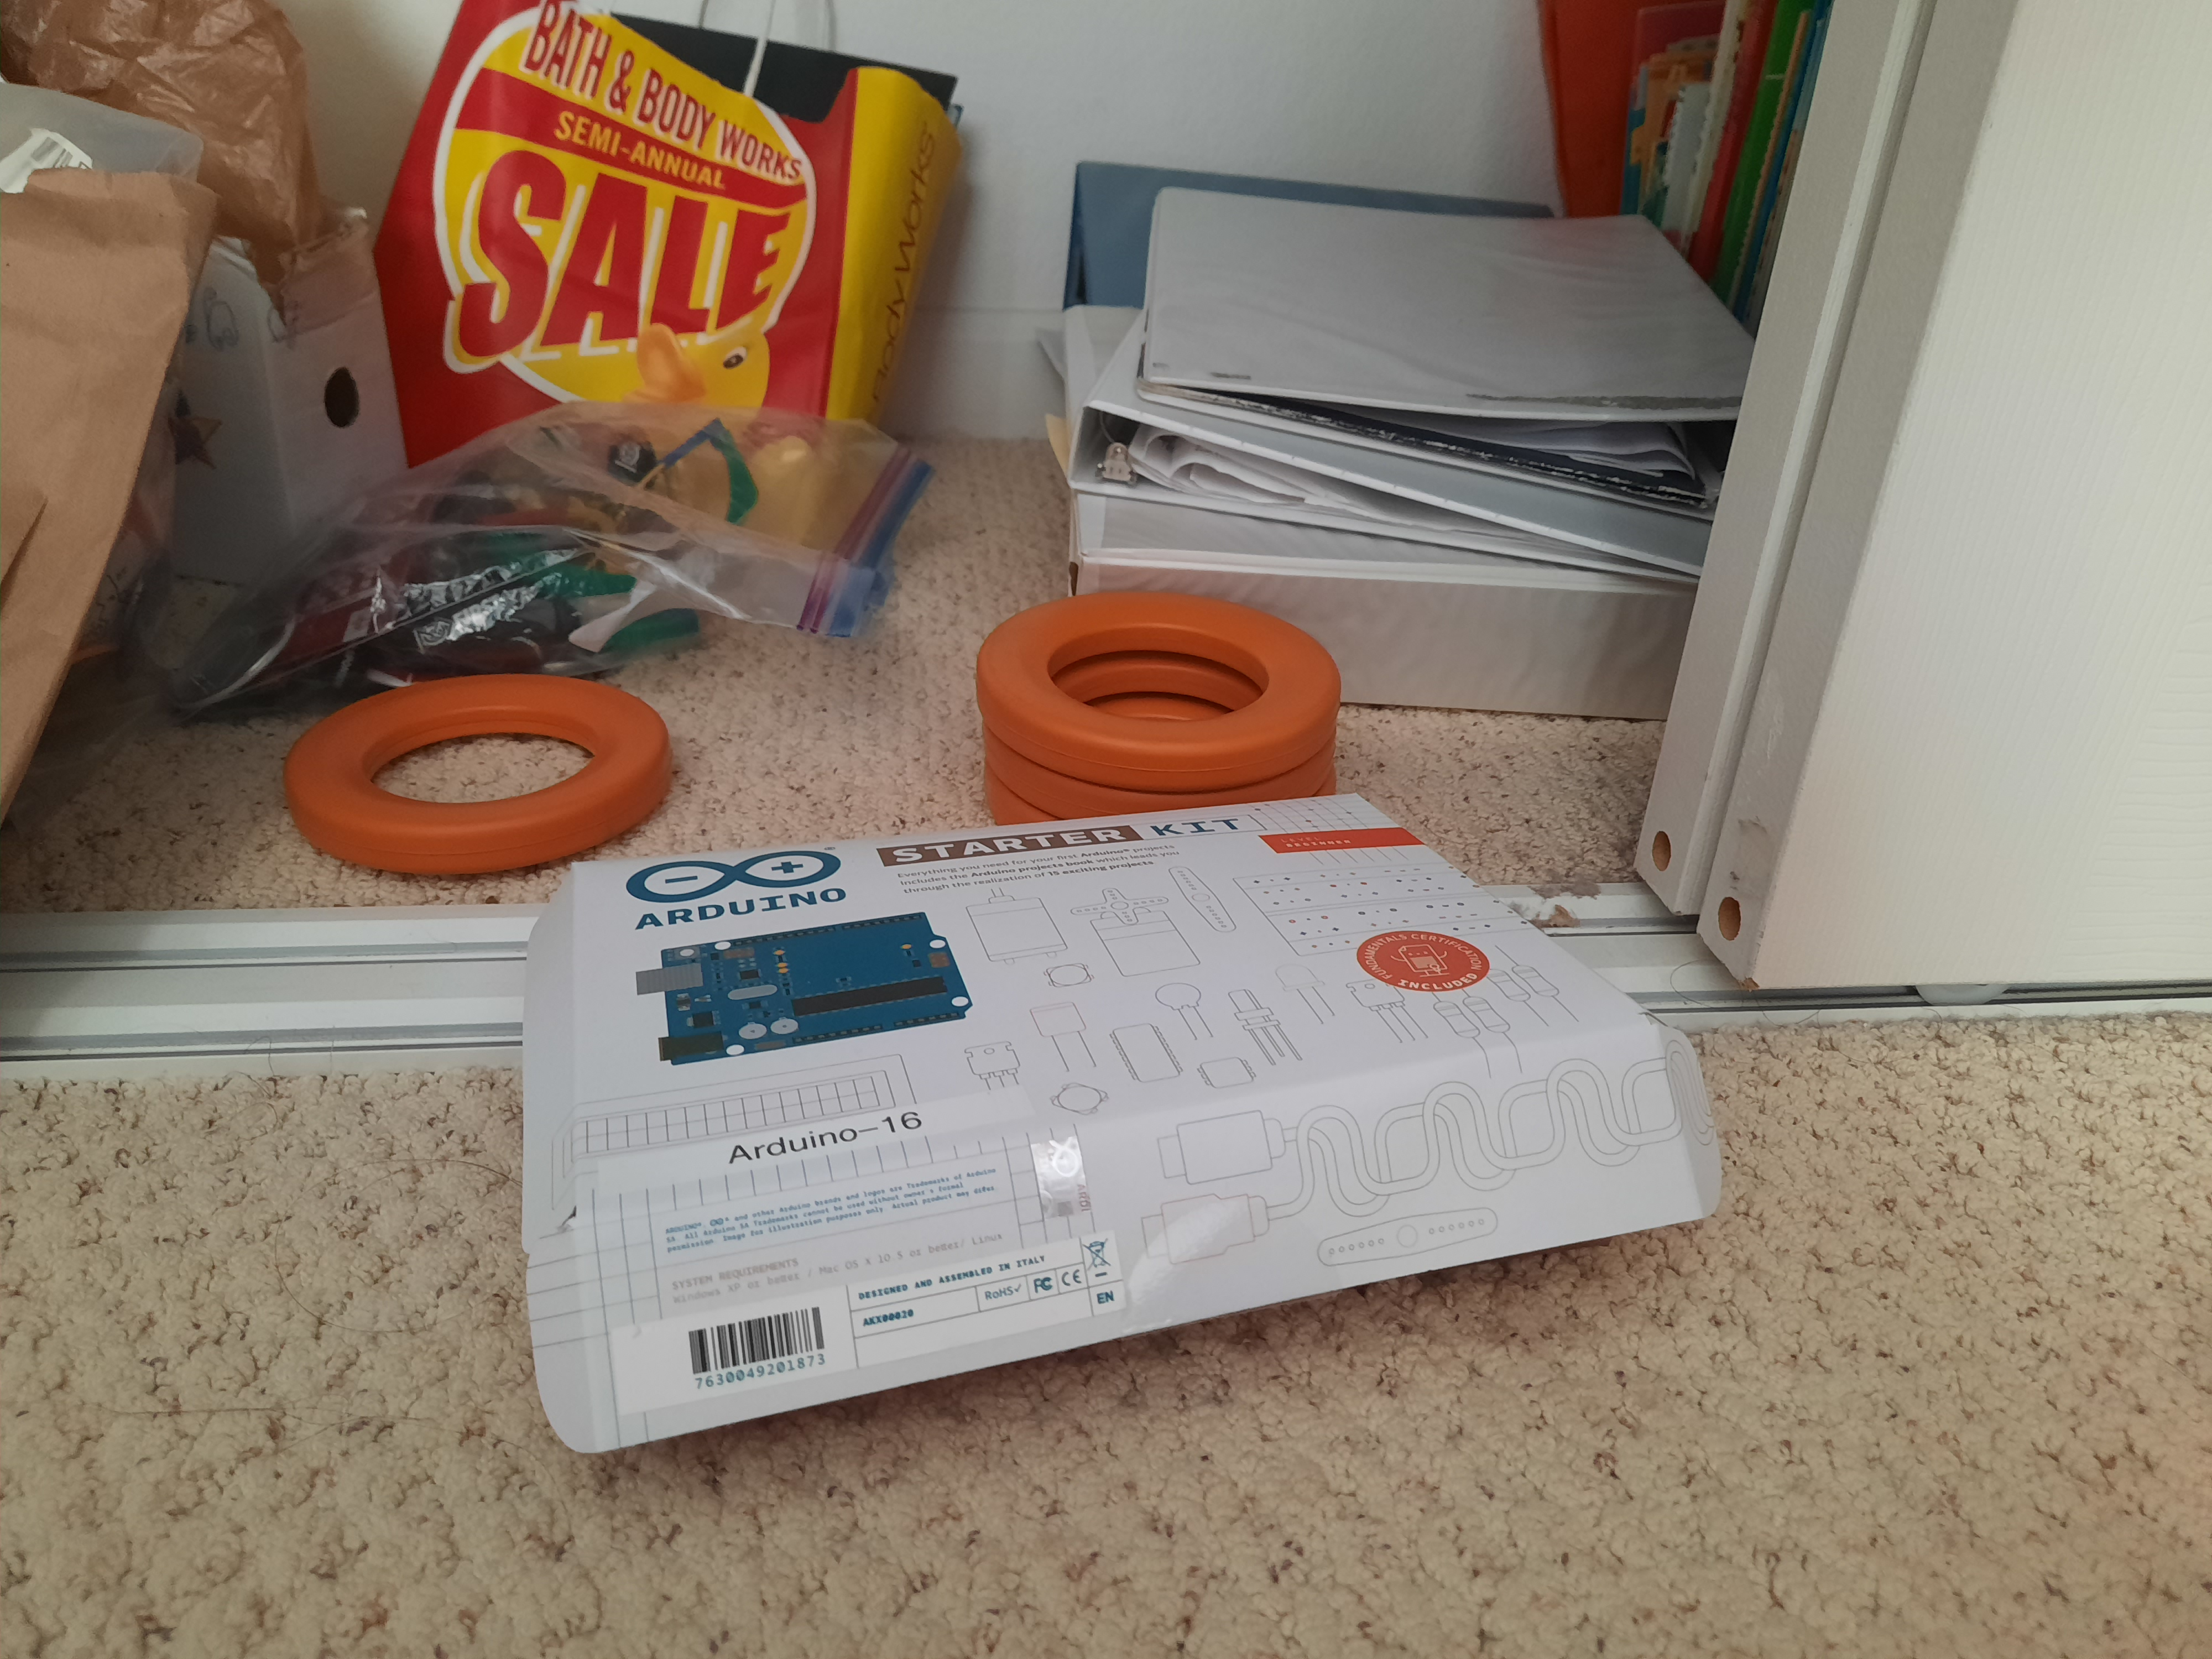FourStack: (974, 601, 1341, 812)
OneStack: (275, 673, 669, 863)
